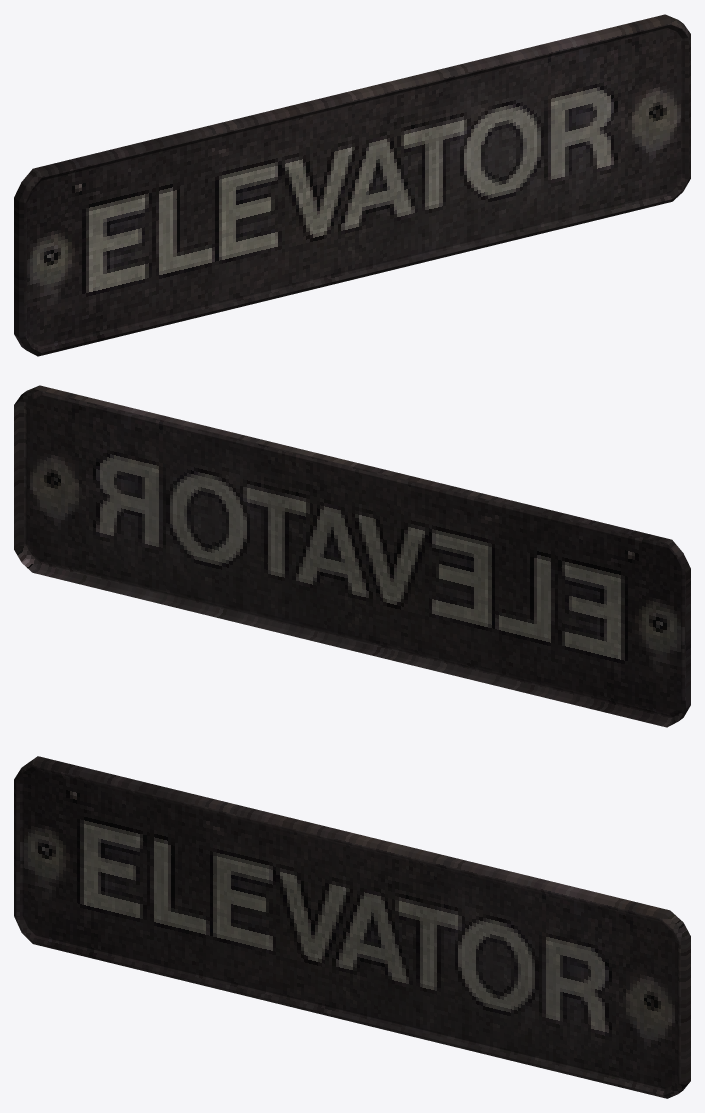
File: elevator_sign_1.glb
3 renders of one model, top to bottom at view 1: azimuth 30°, elevation 25°; view 2: azimuth 150°, elevation 25°; view 3: azimuth 330°, elevation 25°, orthographic.
Parts seen in each view (by area): view 1: elevator_sign_1; view 2: elevator_sign_1; view 3: elevator_sign_1.
Boxes of the visible parts, bbox=[...] form: elevator_sign_1: bbox=[14, 14, 690, 356]; elevator_sign_1: bbox=[14, 385, 690, 727]; elevator_sign_1: bbox=[14, 756, 690, 1098].
Bounding box in the file's own units: 0.7635 × 0.2 × 0.014.
Materials: 1 (1 with a texture image).
